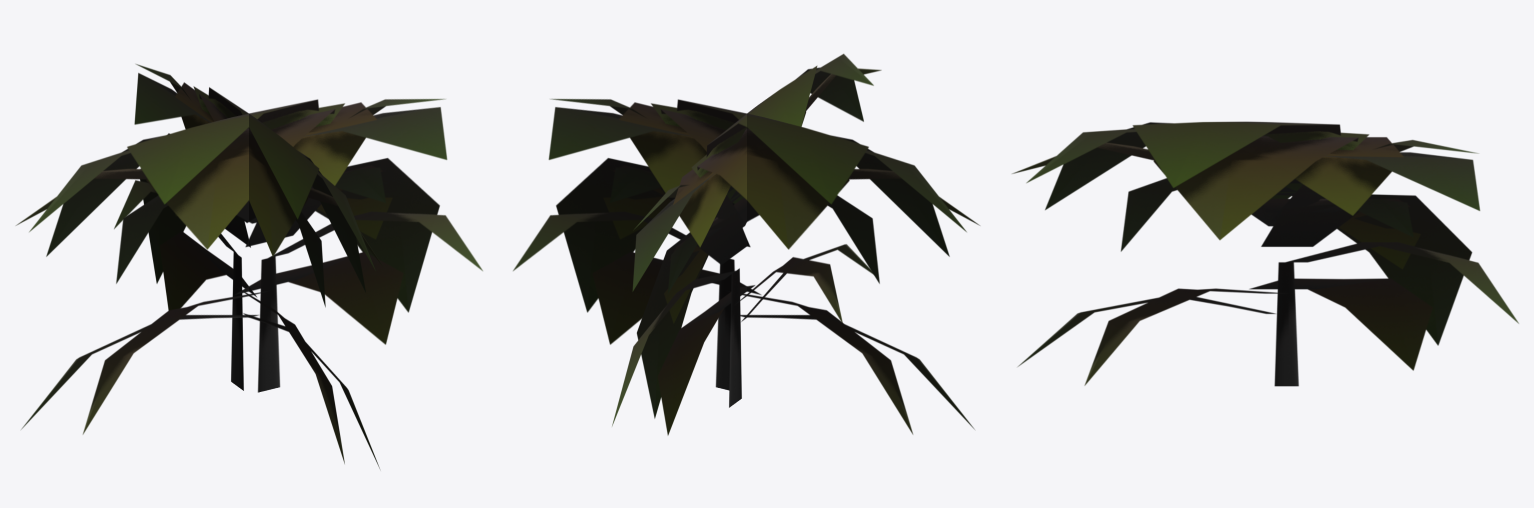
File: bush_a_card.glb
3 views of the same model, side by side, from view 1: azimuth 30°, elevation 25°; view 2: azimuth 150°, elevation 25°; view 3: azimuth 270°, elevation 25° (orthographic). The views are drawn at different scales.
Parts seen in each view (by area): view 1: bush_a_card; view 2: bush_a_card; view 3: bush_a_card.
Part boxes in pixels (x1,y1,x2,y2): bush_a_card: [16, 64, 482, 468]; bush_a_card: [513, 53, 979, 435]; bush_a_card: [1012, 121, 1518, 386].
Bounding box in the file's own units: 1.34 × 0.7685 × 1.34.
1 material, 1 textured.
